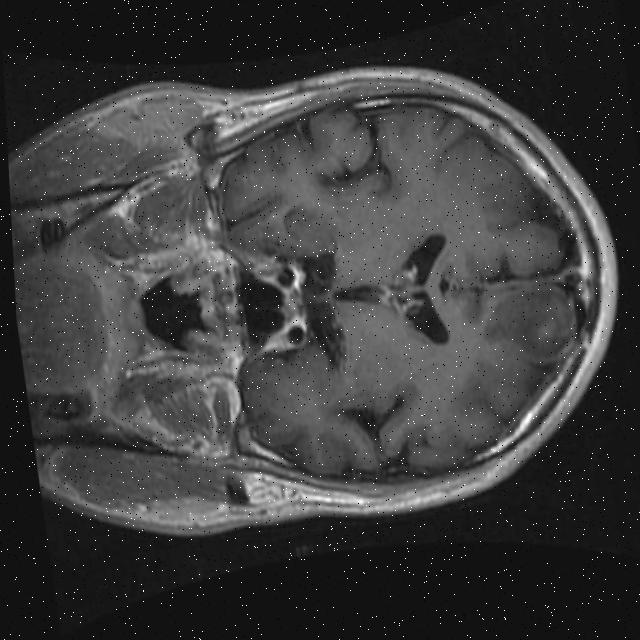Glioma: (475, 281, 582, 369)
